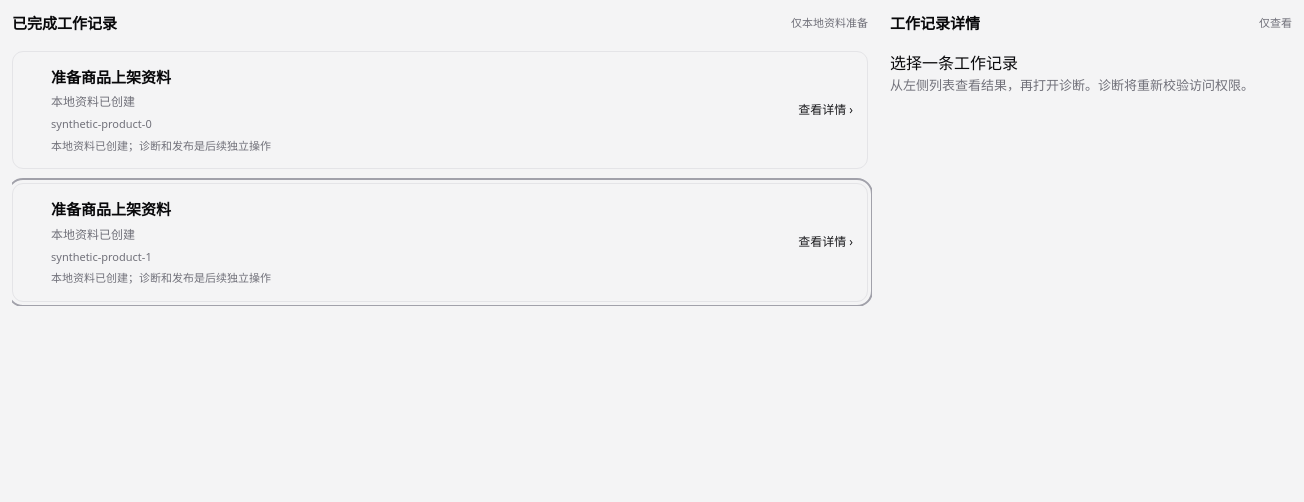
Test case: selects a real result reference with keyboard and returns focus to its row
Check: the link "查看诊断" is not shown
Press Enter
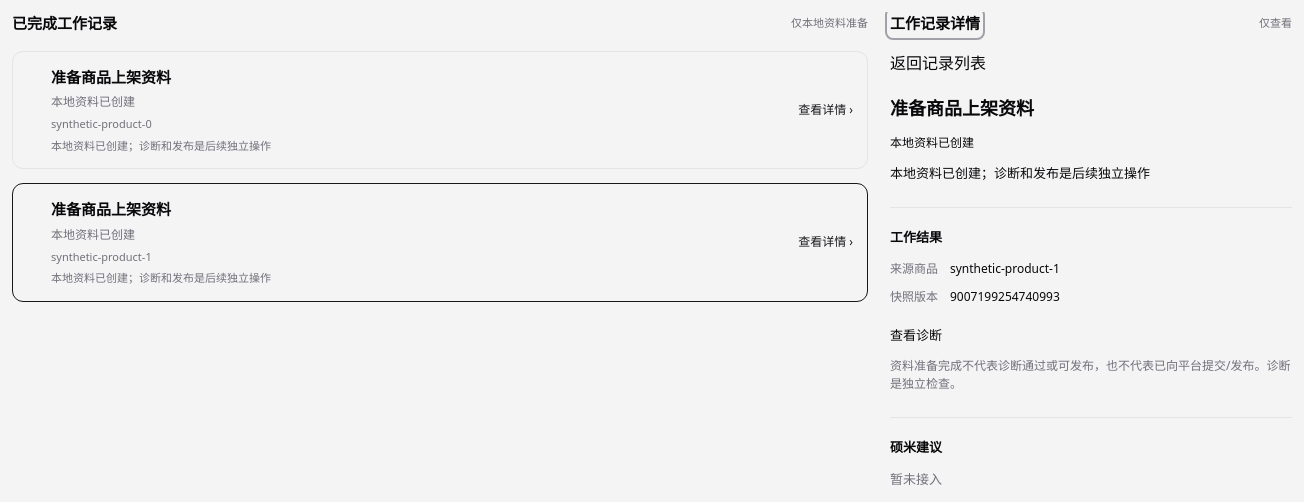
Check: the text "9007199254740993" is shown, box [950,288,1060,304]
Click the button "返回记录列表": [938, 62] box [890,50,986,74]
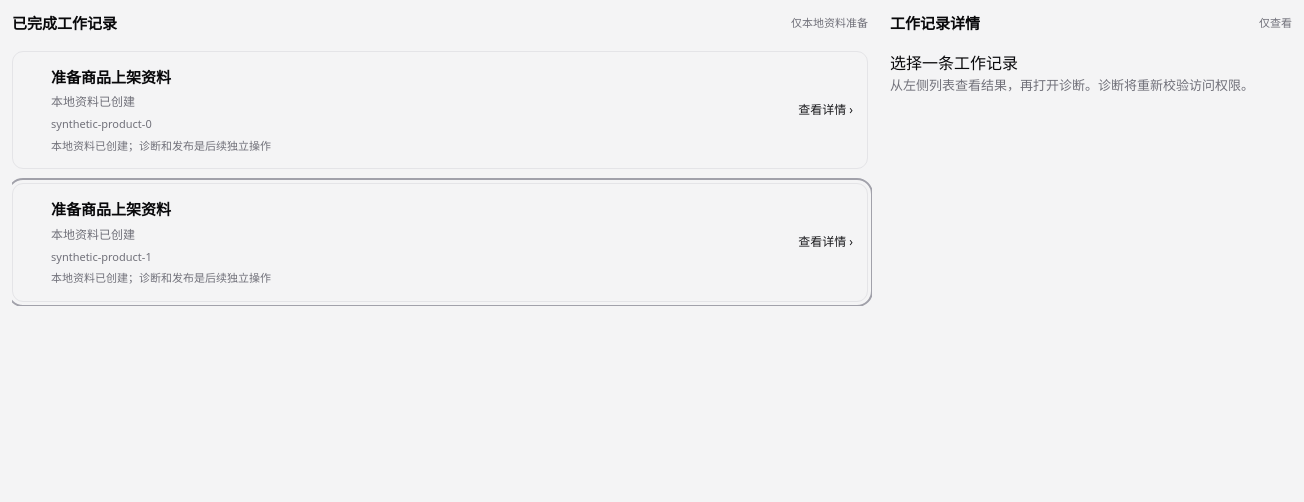
Check: the link "查看诊断" is gone
